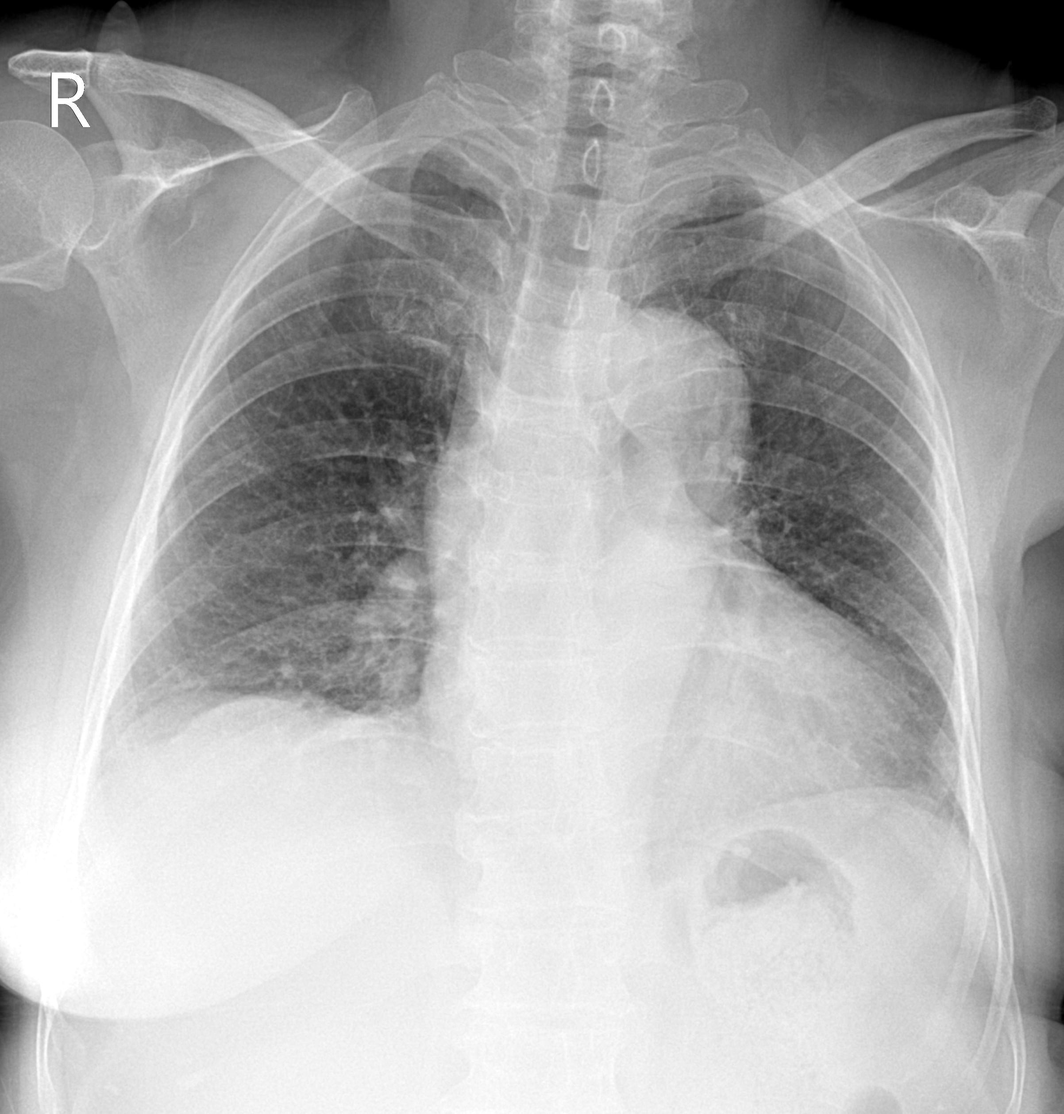Aortic enlargement: (577, 306, 748, 496)
Cardiomegaly: (419, 613, 929, 785)
